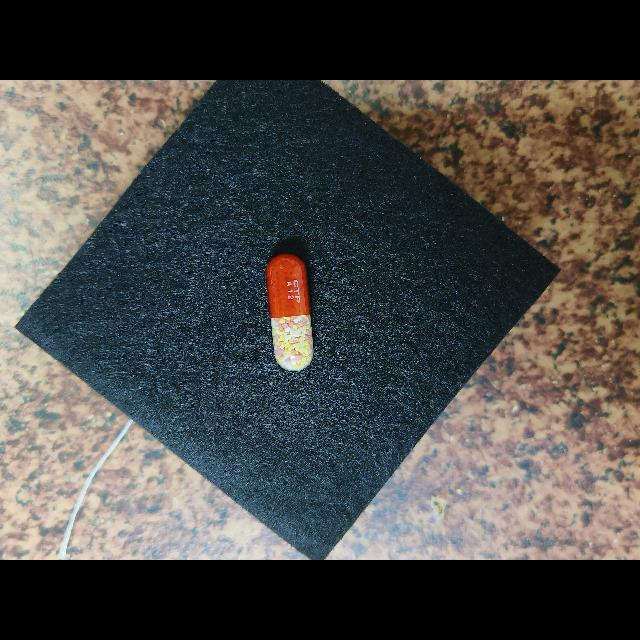Intact Capsule: (266, 254, 314, 371)
